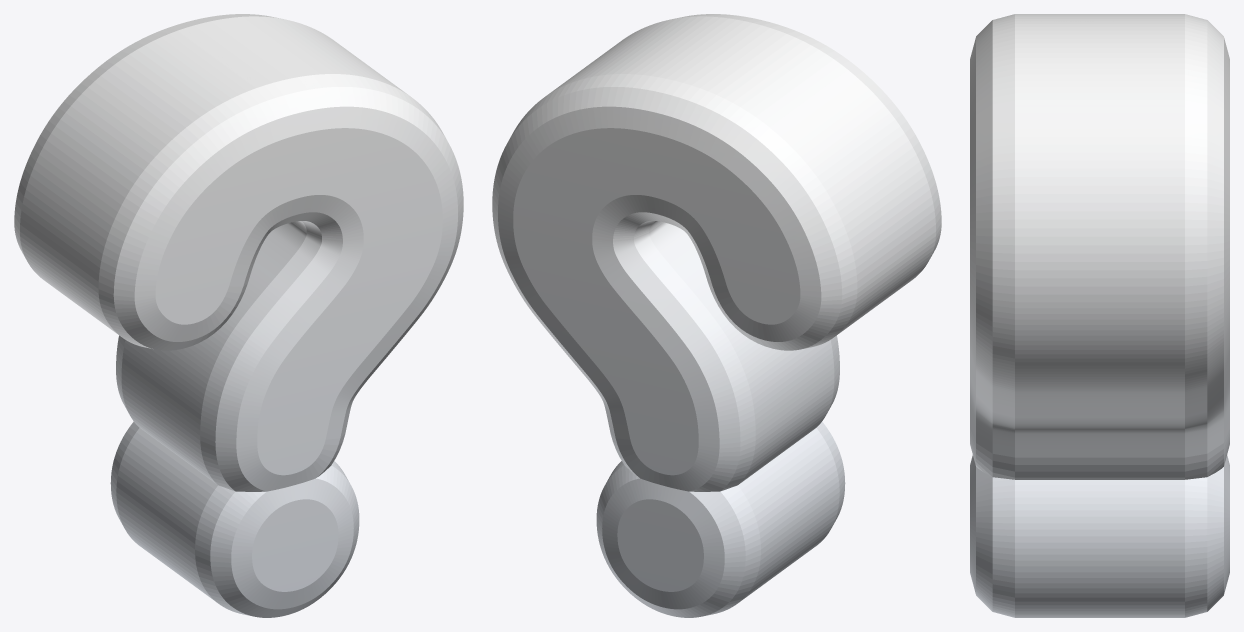
The model's file is qmark.glb.
3 renders of one model, left to right at view 1: azimuth 30°, elevation 25°; view 2: azimuth 150°, elevation 25°; view 3: azimuth 270°, elevation 25°, orthographic. The views are drawn at different scales.
Visible parts, largest first — view 1: qmark; view 2: qmark; view 3: qmark.
Part boxes in pixels (box(x1,y1,x2,y2)): qmark: box(14, 14, 463, 617); qmark: box(492, 14, 941, 617); qmark: box(970, 14, 1229, 617).
Bounding box in the file's own units: 0.8452 × 1.19 × 0.49.
1 material, 1 textured.
